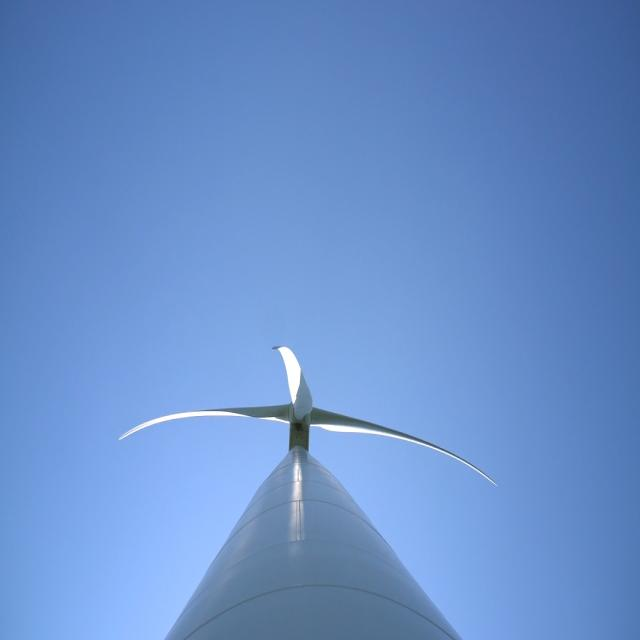blade 1: (341, 402, 452, 456)
blade 2: (80, 399, 284, 427)
blade 3: (269, 336, 318, 389)
